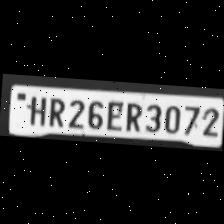0: (160, 101, 182, 133)
2: (196, 104, 220, 138), (63, 95, 85, 128)
3: (142, 100, 162, 132)
6: (84, 97, 104, 128)
7: (180, 102, 200, 135)
E: (103, 96, 123, 130)
H: (23, 92, 45, 125)
R: (121, 98, 143, 131), (44, 94, 64, 128)
